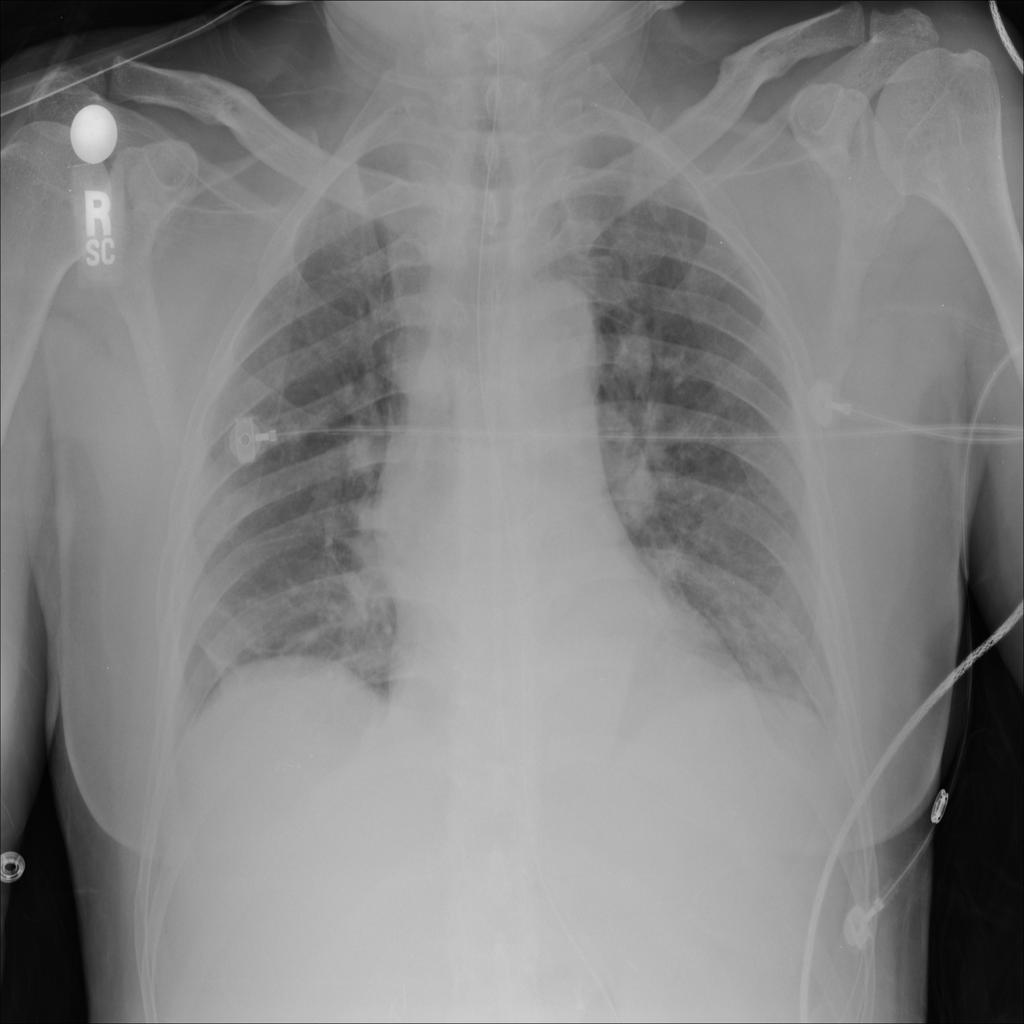nodule: (603, 318, 672, 398), (603, 453, 667, 537)
